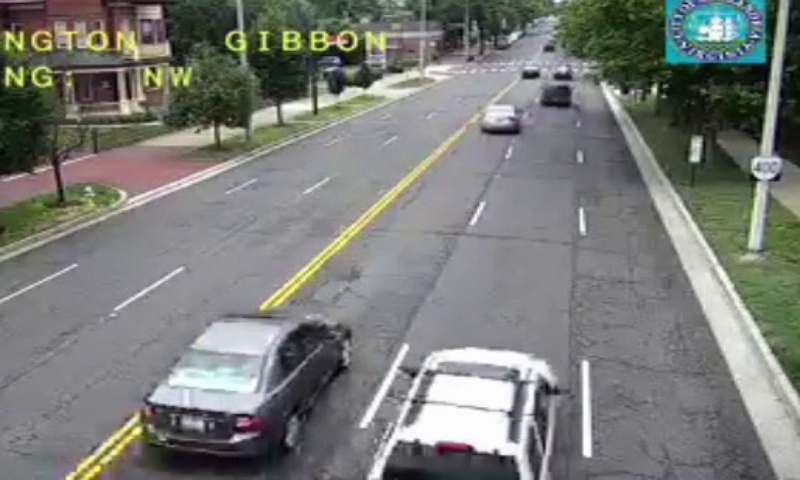car: (143, 311, 350, 456), (365, 346, 558, 480), (482, 104, 518, 131), (540, 83, 572, 108)
